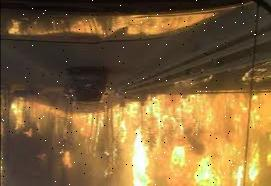fire: (116, 85, 271, 186)
